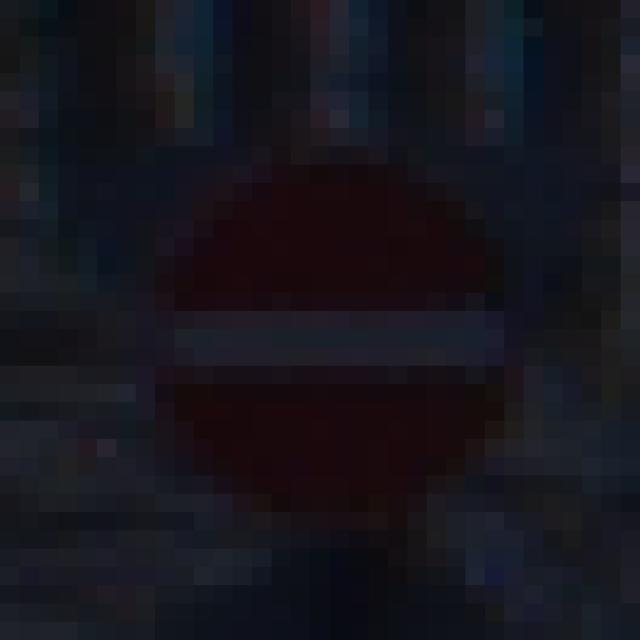No Entry: (117, 111, 544, 550)
